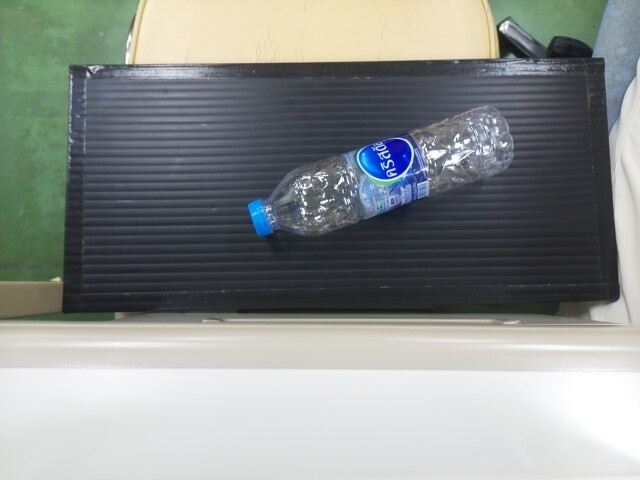plastic_bottle: (245, 134, 425, 236)
